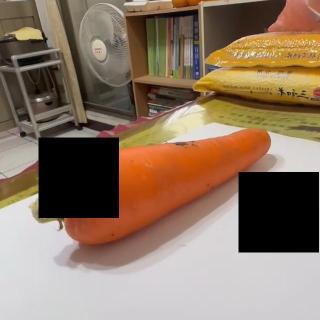carrot: (29, 128, 273, 246)
